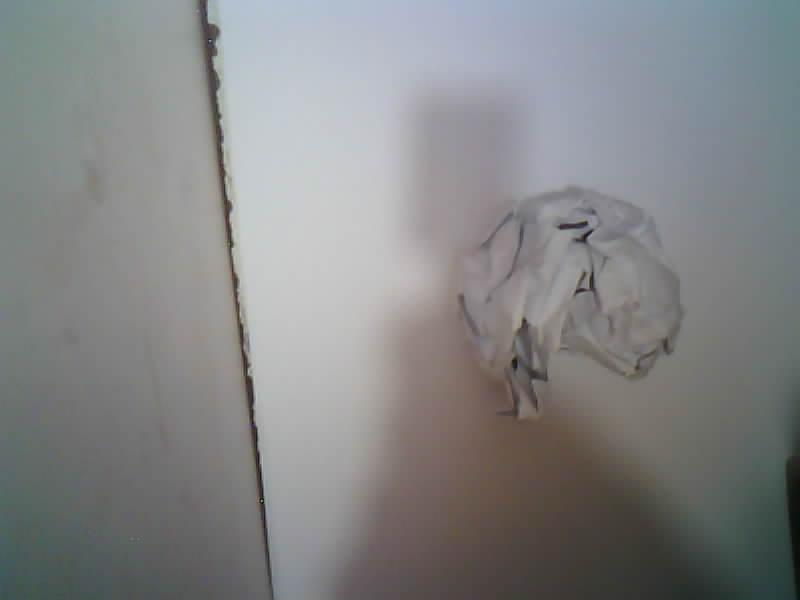biodegradable: (457, 186, 682, 419)
